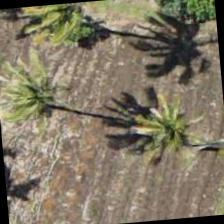Kelapa_Sawit: (125, 82, 223, 180), (0, 48, 86, 146)
